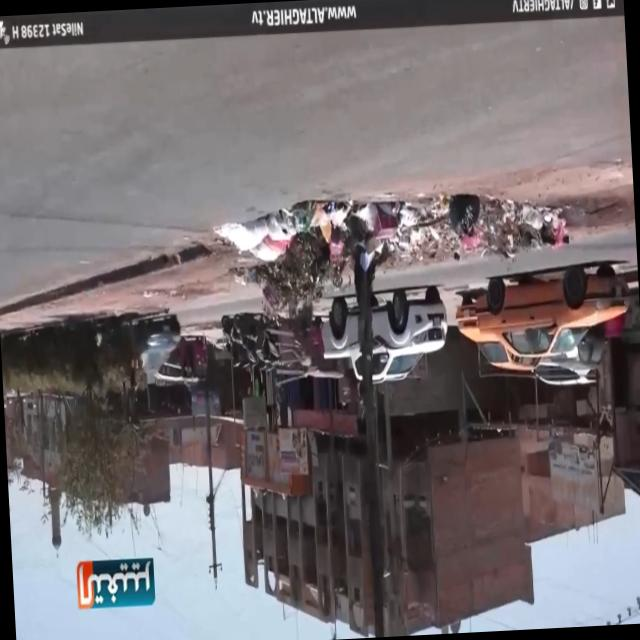high trash: (217, 194, 567, 318)
